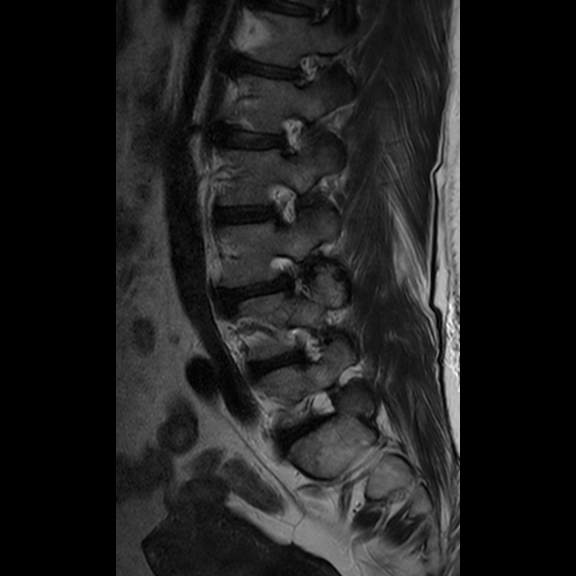RFS0: (266, 104, 315, 167)
